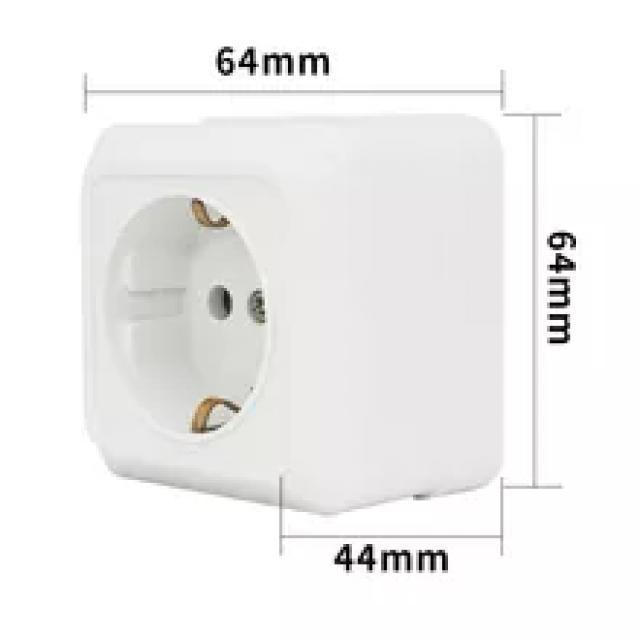typeb: (62, 175, 325, 473)
